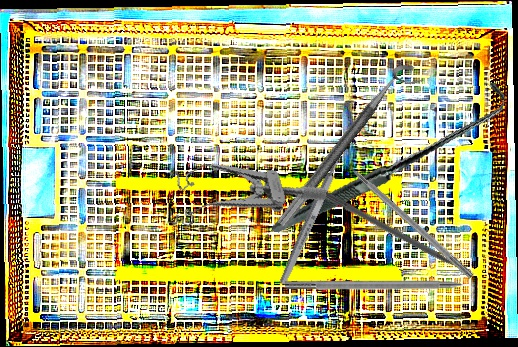Fixation Ring: (275, 57, 427, 240)
Hook Surgical: (271, 44, 508, 273), (329, 147, 475, 280), (285, 280, 486, 292)
Pusher: (321, 190, 476, 281)
Speculum: (160, 134, 328, 240)
Surgical Spoon: (276, 127, 357, 287)
